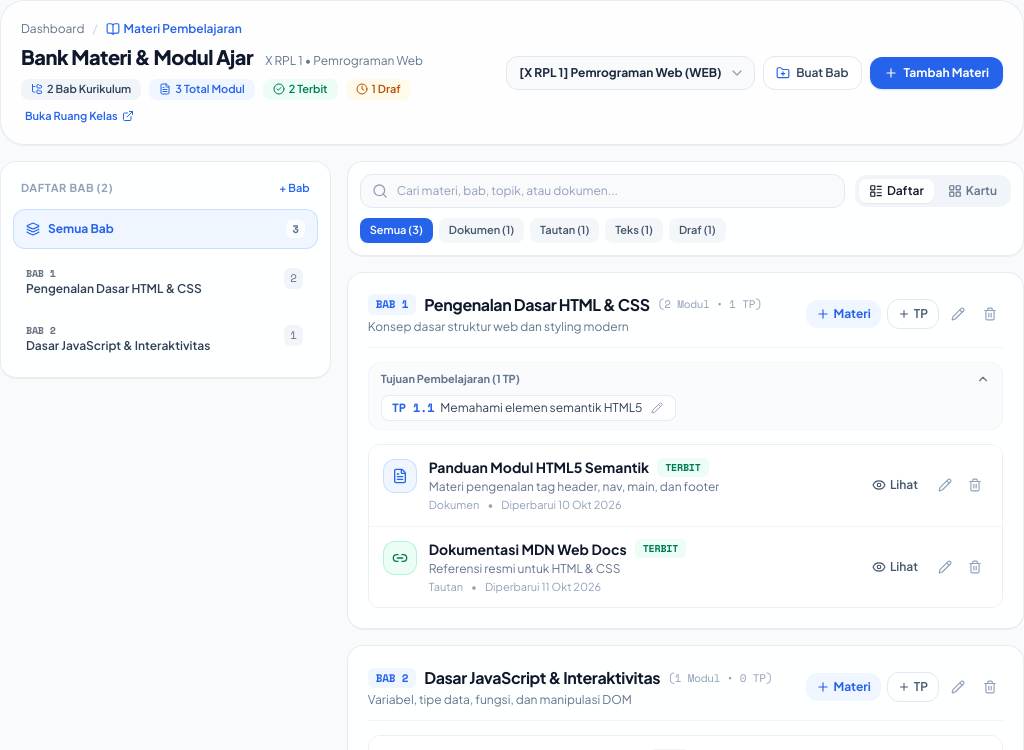
Test case: MateriHubView (Chapter-Centric Workspace) › switches active chapter from sidebar and toggles list/grid view
The image size is (1024, 750).
Later steps or results of the test are not shown.
// Klik Bab 2 pada sidebar
Step 1. Click the button "BAB 2 Dasar JavaScript & Interaktivitas 1" → (164, 339), box 13,312 -> 316,365
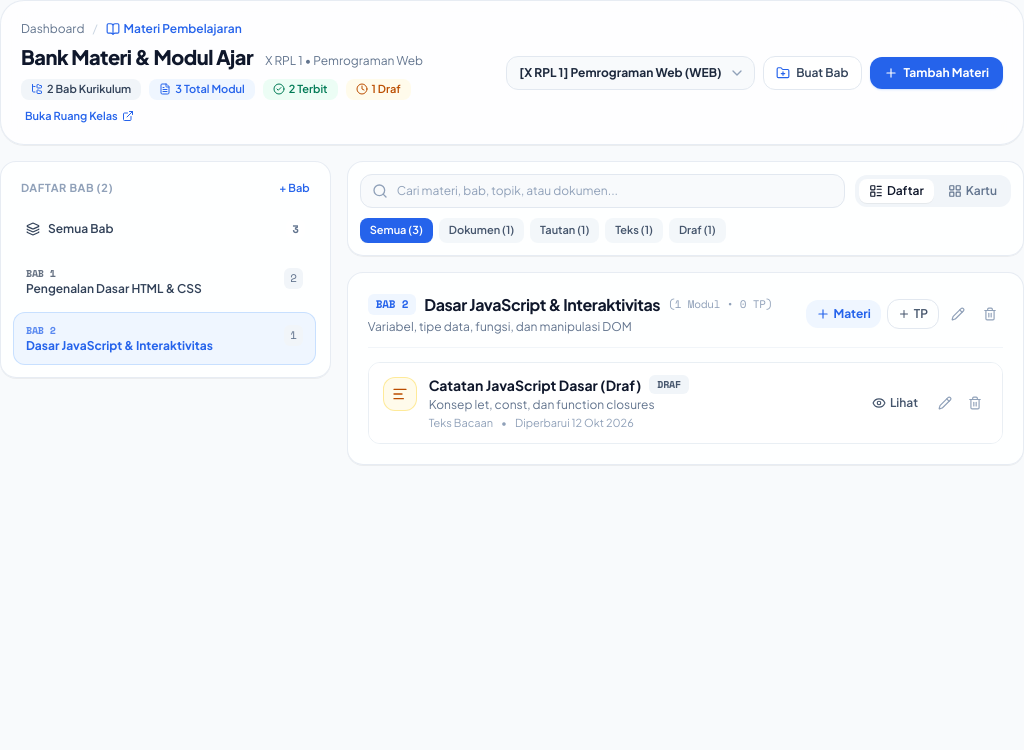
expect the heading "Catatan JavaScript Dasar (Draf)" is shown: met, box 429,374 -> 641,394
expect the heading "Panduan Modul HTML5 Semantik" is gone: met
